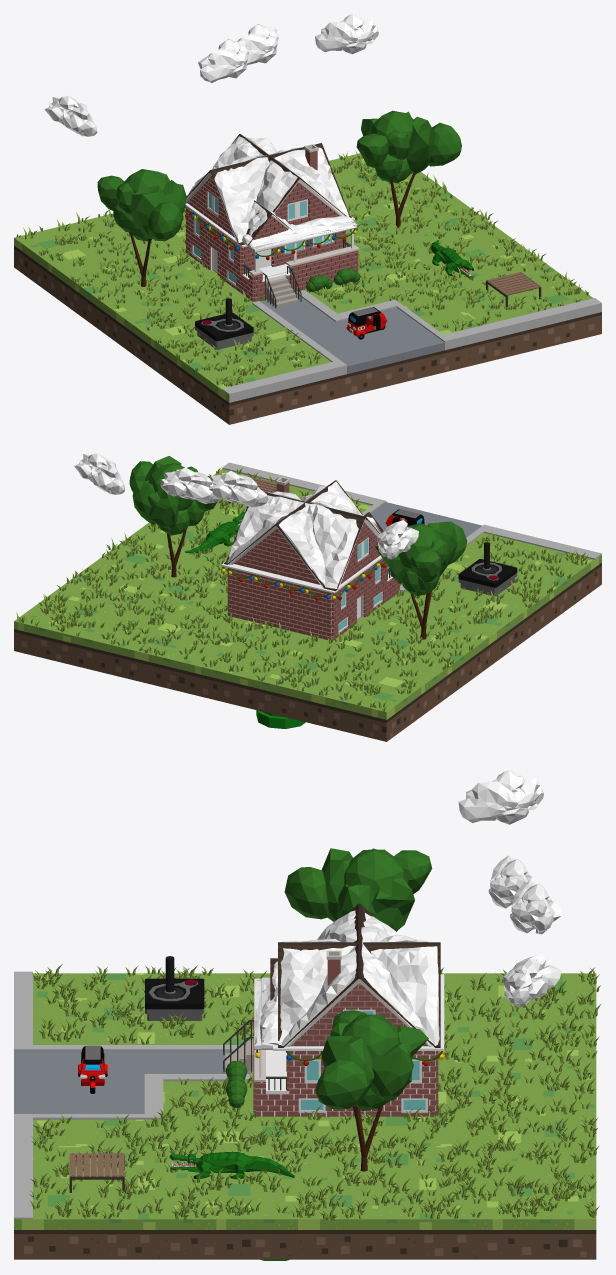
3 views of the same model, one above another, from view 1: azimuth 30°, elevation 25°; view 2: azimuth 150°, elevation 25°; view 3: azimuth 270°, elevation 25° (orthographic). The views are drawn at different scales.
Parts seen in each view (by area): view 1: Cube.006, Cube.1419, Circle.012_Grass_0.192, Cube.007, tree, tree.001, OBJRANDOM_JOYSTICK, VEHICLES_TUC_TUC, Cube.009, ANIMAL_COCODRILO; view 2: Cube.006, Cube.1419, Circle.012_Grass_0.192, Cube.007, tree.001, tree, OBJRANDOM_JOYSTICK, ANIMAL_COCODRILO, UNDERGROUND_PIPES, VEHICLES_TUC_TUC; view 3: Cube.006, Circle.012_Grass_0.192, Cube.1419, tree, Cube.007, tree.001, OBJRANDOM_JOYSTICK, ANIMAL_COCODRILO, Cube.009, VEHICLES_TUC_TUC.
Boxes of the visible parts, bbox=[...] form: Cube.006: bbox=[14, 153, 601, 424]; Cube.1419: bbox=[184, 134, 359, 308]; Circle.012_Grass_0.192: bbox=[16, 150, 588, 386]; Cube.007: bbox=[44, 14, 378, 136]; tree: bbox=[356, 110, 461, 228]; tree.001: bbox=[97, 169, 186, 286]; OBJRANDOM_JOYSTICK: bbox=[195, 298, 253, 349]; VEHICLES_TUC_TUC: bbox=[346, 307, 387, 339]; Cube.009: bbox=[486, 272, 541, 306]; ANIMAL_COCODRILO: bbox=[431, 240, 473, 278]; Cube.006: bbox=[14, 462, 601, 741]; Cube.1419: bbox=[221, 477, 399, 640]; Circle.012_Grass_0.192: bbox=[16, 468, 588, 711]; Cube.007: bbox=[74, 453, 418, 559]; tree.001: bbox=[375, 521, 467, 639]; tree: bbox=[129, 456, 216, 577]; OBJRANDOM_JOYSTICK: bbox=[458, 542, 517, 596]; ANIMAL_COCODRILO: bbox=[185, 511, 244, 553]; UNDERGROUND_PIPES: bbox=[256, 710, 305, 728]; VEHICLES_TUC_TUC: bbox=[385, 509, 424, 526]; Cube.006: bbox=[14, 971, 596, 1259]; Circle.012_Grass_0.192: bbox=[29, 964, 600, 1220]; Cube.1419: bbox=[223, 903, 444, 1116]; tree: bbox=[315, 1010, 428, 1171]; Cube.007: bbox=[458, 770, 561, 1007]; tree.001: bbox=[284, 848, 432, 931]; OBJRANDOM_JOYSTICK: bbox=[145, 956, 204, 1020]; ANIMAL_COCODRILO: bbox=[169, 1152, 294, 1179]; Cube.009: bbox=[69, 1152, 124, 1192]; VEHICLES_TUC_TUC: bbox=[78, 1045, 107, 1093].
Size of the model in its own units: 4071 by 2759 by 4040.
46 materials, 3 textured.
